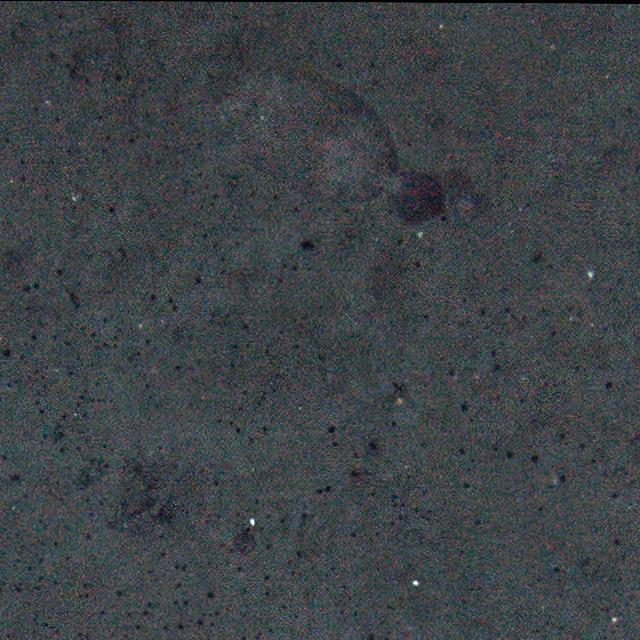flatfish: (210, 68, 451, 236)
